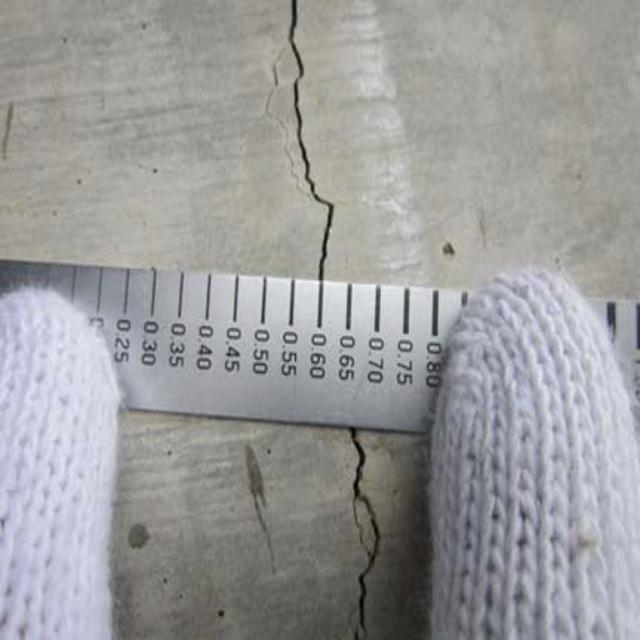crack: (279, 7, 347, 287), (328, 430, 386, 639)
